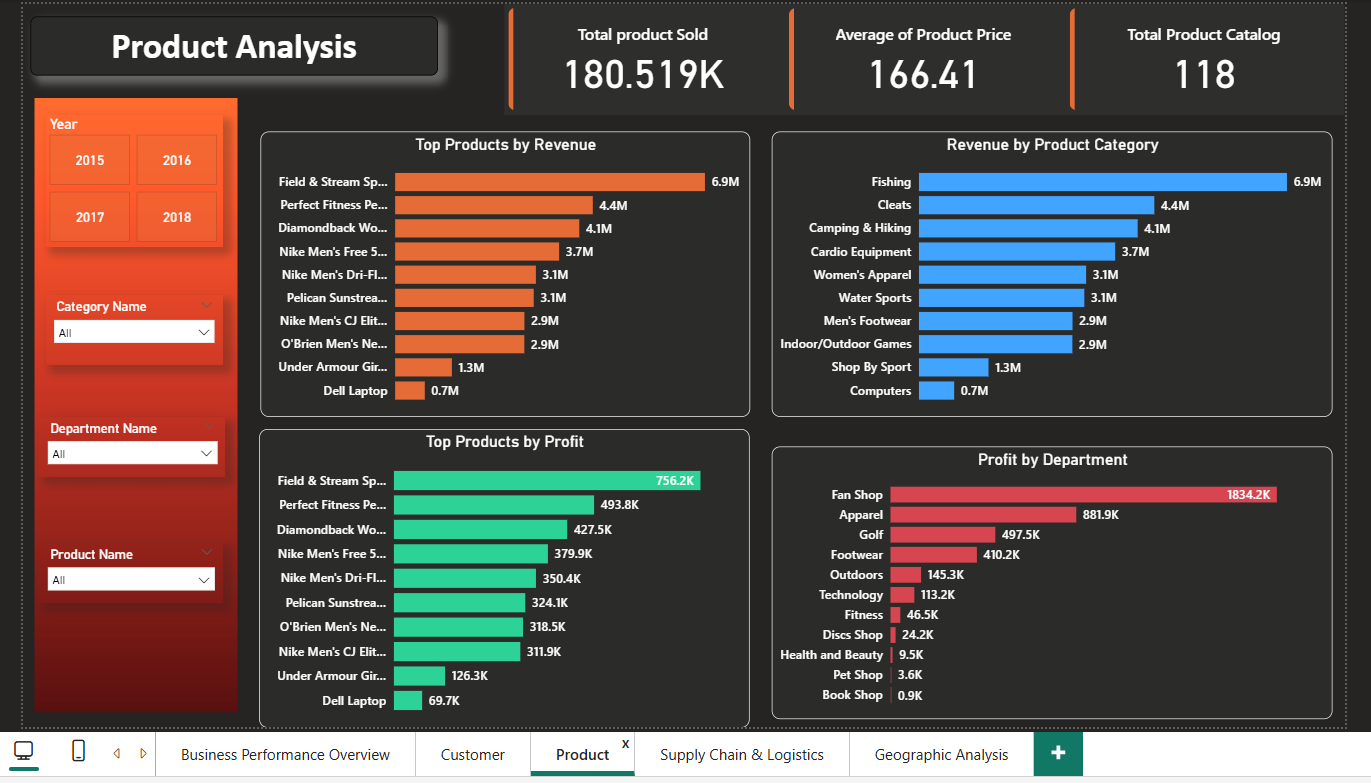

What the dashboard file says about the page in this screenshot:
{"tool":"powerbi","page":{"name":"Product ","canvas":[1578,864],"ordinal":2},"visuals":[{"type":"cardVisual","fields":{"Data":["CountNonNull(fact_orders.Product Card Id)","Avg(DimProduct.Product Price)","CountNonNull(DimProduct.Product Name)"]},"box":[574.7,0,1003.1,132.9],"z":0},{"type":"clusteredBarChart","title":"Top Products by Revenue","fields":{"Category":["DimProduct.Product Name"],"Y":["Sum(fact_orders.Sales)"]},"box":[282.9,151.7,584.6,340.9],"z":1000},{"type":"clusteredBarChart","title":"Revenue by Product Category","fields":{"Category":["DimCategory.Category Name"],"Y":["Sum(fact_orders.Sales)"]},"box":[894.9,151.7,669.9,340.9],"z":2000},{"type":"clusteredBarChart","title":"Profit by Department","fields":{"Category":["DimDepartment.Department Name"],"Y":["Sum(fact_orders.Order Profit Per Order)"]},"box":[894.9,528.4,669.9,325.6],"z":3000},{"type":"textbox","box":[9,14.9,486.6,70.2],"z":4000},{"type":"image","box":[9,107.5,252.3,743.4],"z":5000},{"type":"advancedSlicerVisual","fields":{"Values":["fact_orders.order date (DateOrders).Variation.Date Hierarchy.Year"]},"box":[26.9,132.9,212,156.7],"z":6000},{"type":"slicer","fields":{"Values":["DimCategory.Category Name"]},"box":[26.9,347.8,212,83.6],"z":7000},{"type":"slicer","fields":{"Values":["DimDepartment.Department Name"]},"box":[19.4,492.6,222.4,71.7],"z":8000},{"type":"slicer","fields":{"Values":["DimProduct.Product Name"]},"box":[19.4,643.4,219.4,71.7],"z":9000},{"type":"clusteredBarChart","title":"Top Products by Profit","fields":{"Category":["DimProduct.Product Name"],"Y":["fact_orders.Total Profit"]},"box":[282.5,507.5,585.3,356.9],"z":9001}]}

Visuals, with their boxes on the page's 1578x864 design canvas (x1, y1, x2, y2). These are canvas units, not pixel positions in the 1371x783 screenshot, which may show the page scaled, cropped or inside an application window:
cardVisual - CountNonNull(fact_orders.Product Card Id) x Avg(DimProduct.Product Price): box(575, 0, 1578, 133)
"Top Products by Revenue" clusteredBarChart: box(283, 152, 868, 493)
"Revenue by Product Category" clusteredBarChart: box(895, 152, 1565, 493)
"Profit by Department" clusteredBarChart: box(895, 528, 1565, 854)
textbox: box(9, 15, 496, 85)
image: box(9, 108, 261, 851)
advancedSlicerVisual - fact_orders.order date (DateOrders).Variation.Date Hierarchy.Year: box(27, 133, 239, 290)
slicer - DimCategory.Category Name: box(27, 348, 239, 431)
slicer - DimDepartment.Department Name: box(19, 493, 242, 564)
slicer - DimProduct.Product Name: box(19, 643, 239, 715)
"Top Products by Profit" clusteredBarChart: box(282, 508, 868, 864)
